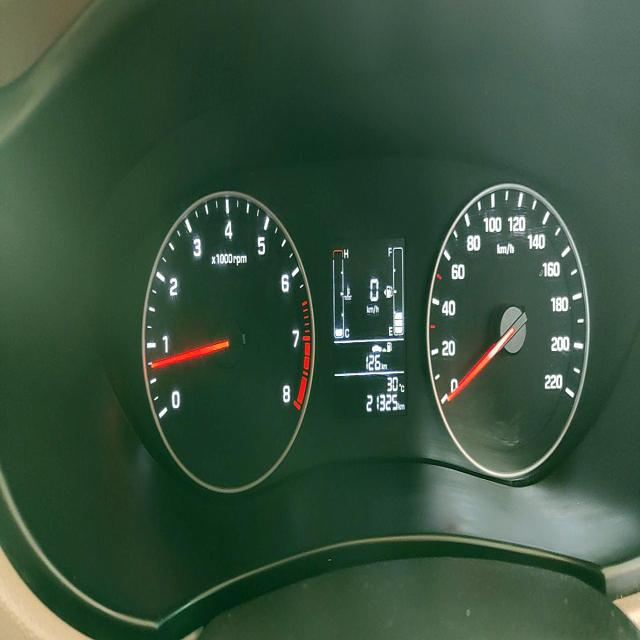odometer: (365, 389, 398, 416)
